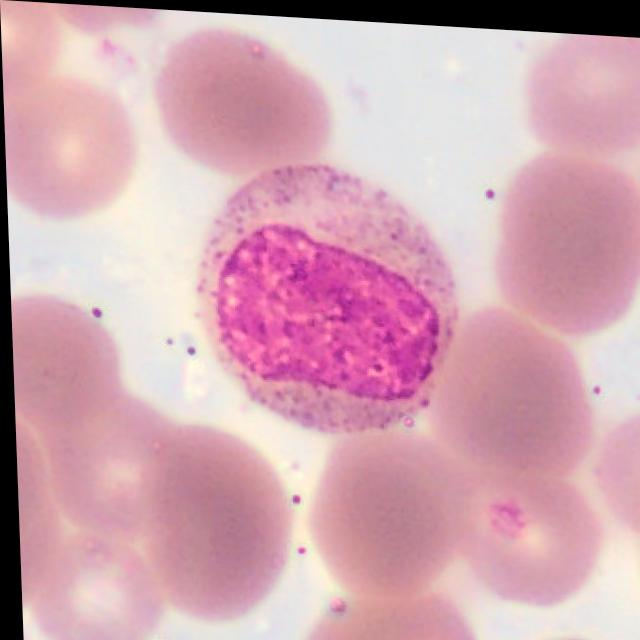Metamielocito: (191, 159, 453, 430)
